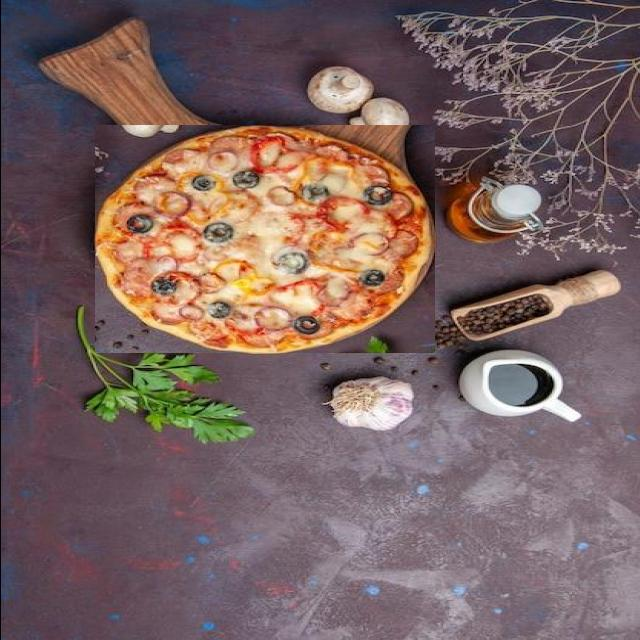olive: (296, 223, 326, 243), (137, 186, 166, 205), (200, 186, 227, 204), (376, 215, 403, 233), (209, 317, 234, 335), (270, 171, 296, 188), (353, 279, 378, 295), (145, 270, 169, 286), (299, 301, 321, 318), (316, 176, 337, 191)
pizza: (94, 125, 434, 353)
